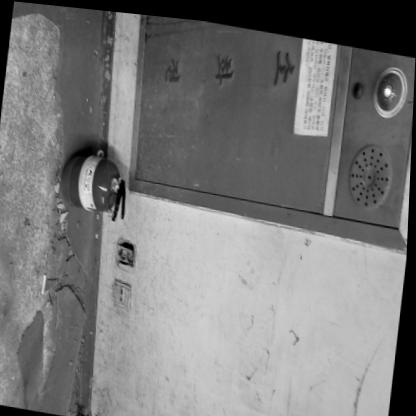FE: (60, 147, 131, 218)
